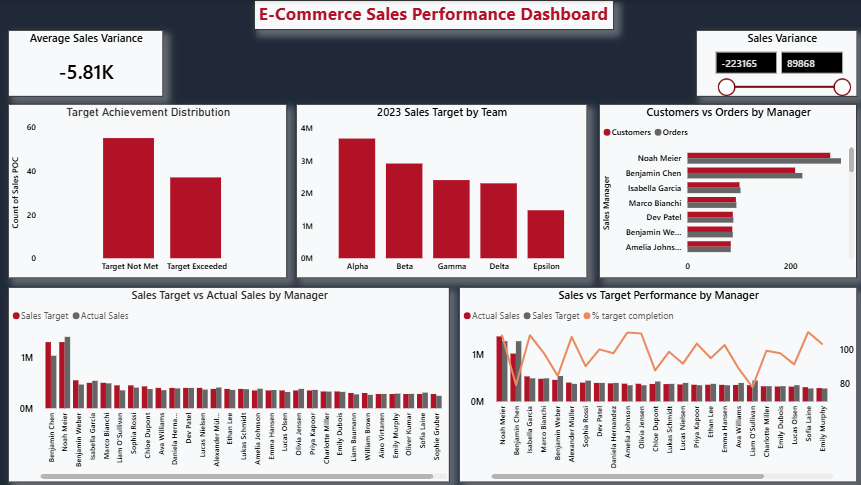

This screenshot's page, from the dashboard's own definition file:
{"tool":"powerbi","page":{"name":"Sales Team","canvas":[1280,720],"ordinal":0},"visuals":[{"type":"clusteredColumnChart","title":"Target Achievement Distribution","fields":{"Y":["Count(Sales Targets.Sales POC)"],"Category":["Sales Targets.Target Bucket"]},"box":[14.7,152.8,410,255.7],"z":0},{"type":"columnChart","title":"2023 Sales Target by Team","fields":{"Category":["Sales Targets.Sales Team"],"Y":["Sum(Sales Targets.2023 Sales Target)"]},"box":[437.9,152.8,427.6,255.7],"z":1000},{"type":"clusteredColumnChart","title":"Sales Target vs Actual Sales by Manager","fields":{"Category":["Sales Targets.Sales Manager"],"Y":["Sum(Sales Targets.2023 Sales Target)","Sum(Sales Targets.SalesbyPOC)"]},"box":[14.7,421.7,649.5,286.5],"z":2000},{"type":"card","title":"Average Sales Variance","fields":{"Values":["Avg(Sales Targets.Sales Difference)"]},"box":[14.7,44.1,227.8,98.4],"z":3000},{"type":"slicer","title":"Sales Variance","fields":{"Values":["Sales Targets.Sales Difference"]},"box":[1025.6,44.1,236.6,98.4],"z":4000},{"type":"lineClusteredColumnComboChart","title":"Sales vs Target Performance by Manager","fields":{"Category":["Sales Manager Target Completion.Sales Manager"],"Y2":["Sum(Sales Manager Target Completion.% target completion)"],"Y":["Sum(Sales Manager Target Completion.Total Sales)","Sum(Sales Manager Target Completion.Total Target)"]},"box":[677.4,421.7,584.8,286.5],"z":5000},{"type":"clusteredBarChart","title":"Customers vs Orders by Manager","fields":{"Category":["Orders.Sales Manager"],"Y":["Count(Orders.Customer ID)","Count(Orders.Order ID)"]},"box":[883.1,152.8,379.1,255.7],"z":6000},{"type":"textbox","title":"E-Commerce Sales Performance Dashboard","box":[375.5,0,529,44.1],"z":7000}]}

Visuals, with their boxes in screenshot pixels (x1, y1, x2, y2), scaled from the page's 1280x720 canvas onto the 861x485 screenshot:
"Target Achievement Distribution" clusteredColumnChart: locate(10, 103, 286, 275)
"2023 Sales Target by Team" columnChart: locate(295, 103, 582, 275)
"Sales Target vs Actual Sales by Manager" clusteredColumnChart: locate(10, 284, 447, 477)
"Average Sales Variance" card: locate(10, 30, 163, 96)
"Sales Variance" slicer: locate(690, 30, 849, 96)
"Sales vs Target Performance by Manager" lineClusteredColumnComboChart: locate(456, 284, 849, 477)
"Customers vs Orders by Manager" clusteredBarChart: locate(594, 103, 849, 275)
"E-Commerce Sales Performance Dashboard" textbox: locate(253, 0, 608, 30)
